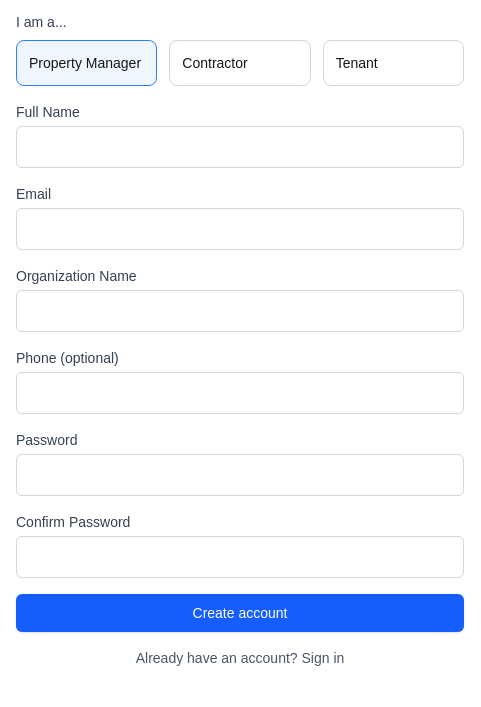
Scenario: RegisterForm › validates password confirmation
The image size is (481, 707).
Type "Password123!" into the password field labelled "Password". click: (240, 475)
box: [16, 454, 464, 496]
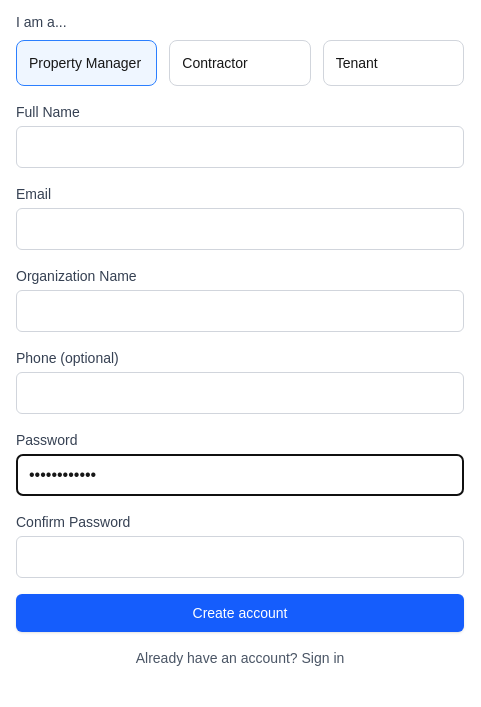
Type "DifferentPassword123!" into the password field labelled "Confirm Password". click: (240, 557)
box: [16, 536, 464, 578]
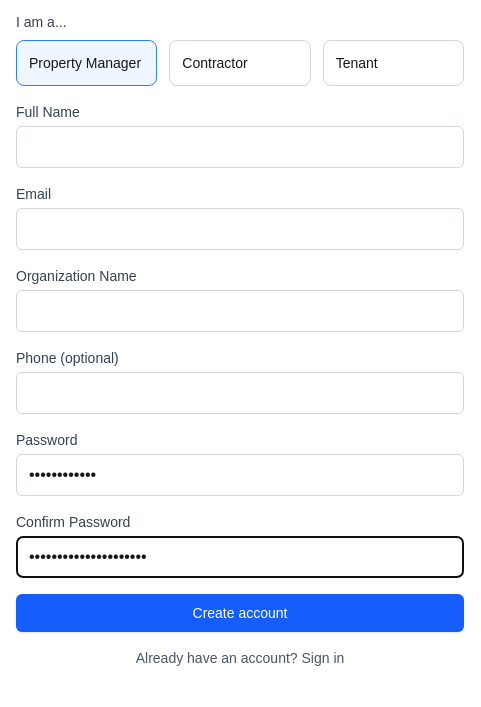
Press Tab
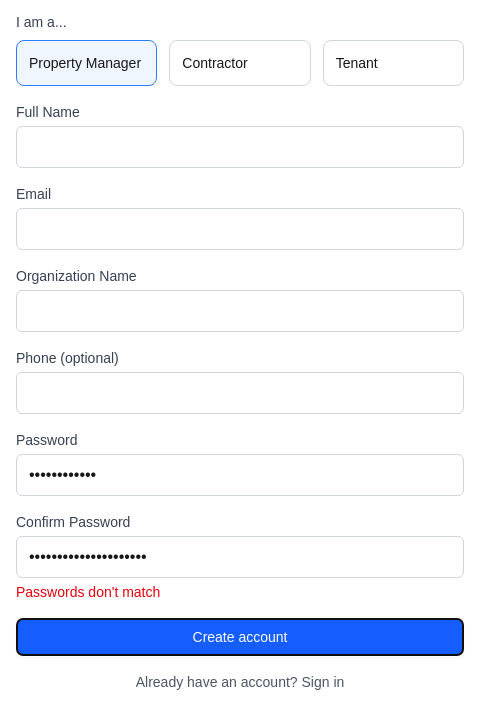
Expected: the text "Passwords don't match" is shown, [16, 584, 160, 600]
